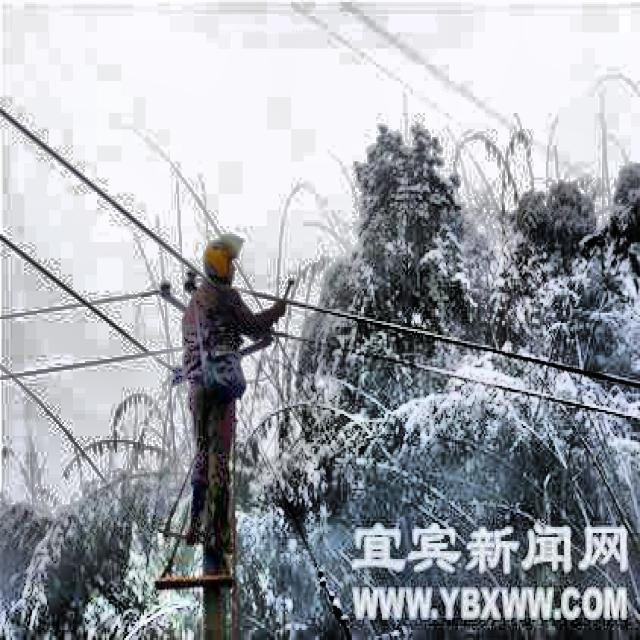helmet: (196, 232, 244, 291)
